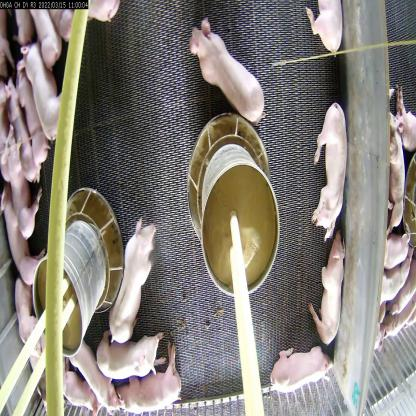Pig: (94, 214, 166, 348), (186, 13, 265, 133), (19, 36, 67, 142), (0, 125, 42, 240), (0, 189, 48, 289), (311, 97, 346, 233), (261, 338, 338, 398), (94, 324, 168, 382), (310, 229, 346, 347), (118, 354, 185, 416), (13, 60, 52, 165), (69, 344, 125, 416), (15, 278, 56, 367), (8, 80, 40, 190), (384, 105, 406, 233), (56, 364, 102, 416), (306, 0, 345, 57), (372, 224, 410, 274), (31, 7, 62, 67)
